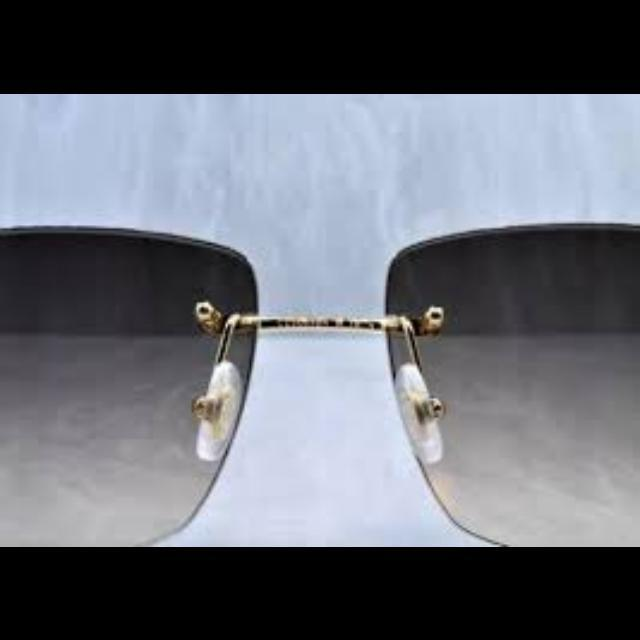sunglasses: (0, 220, 640, 546)
